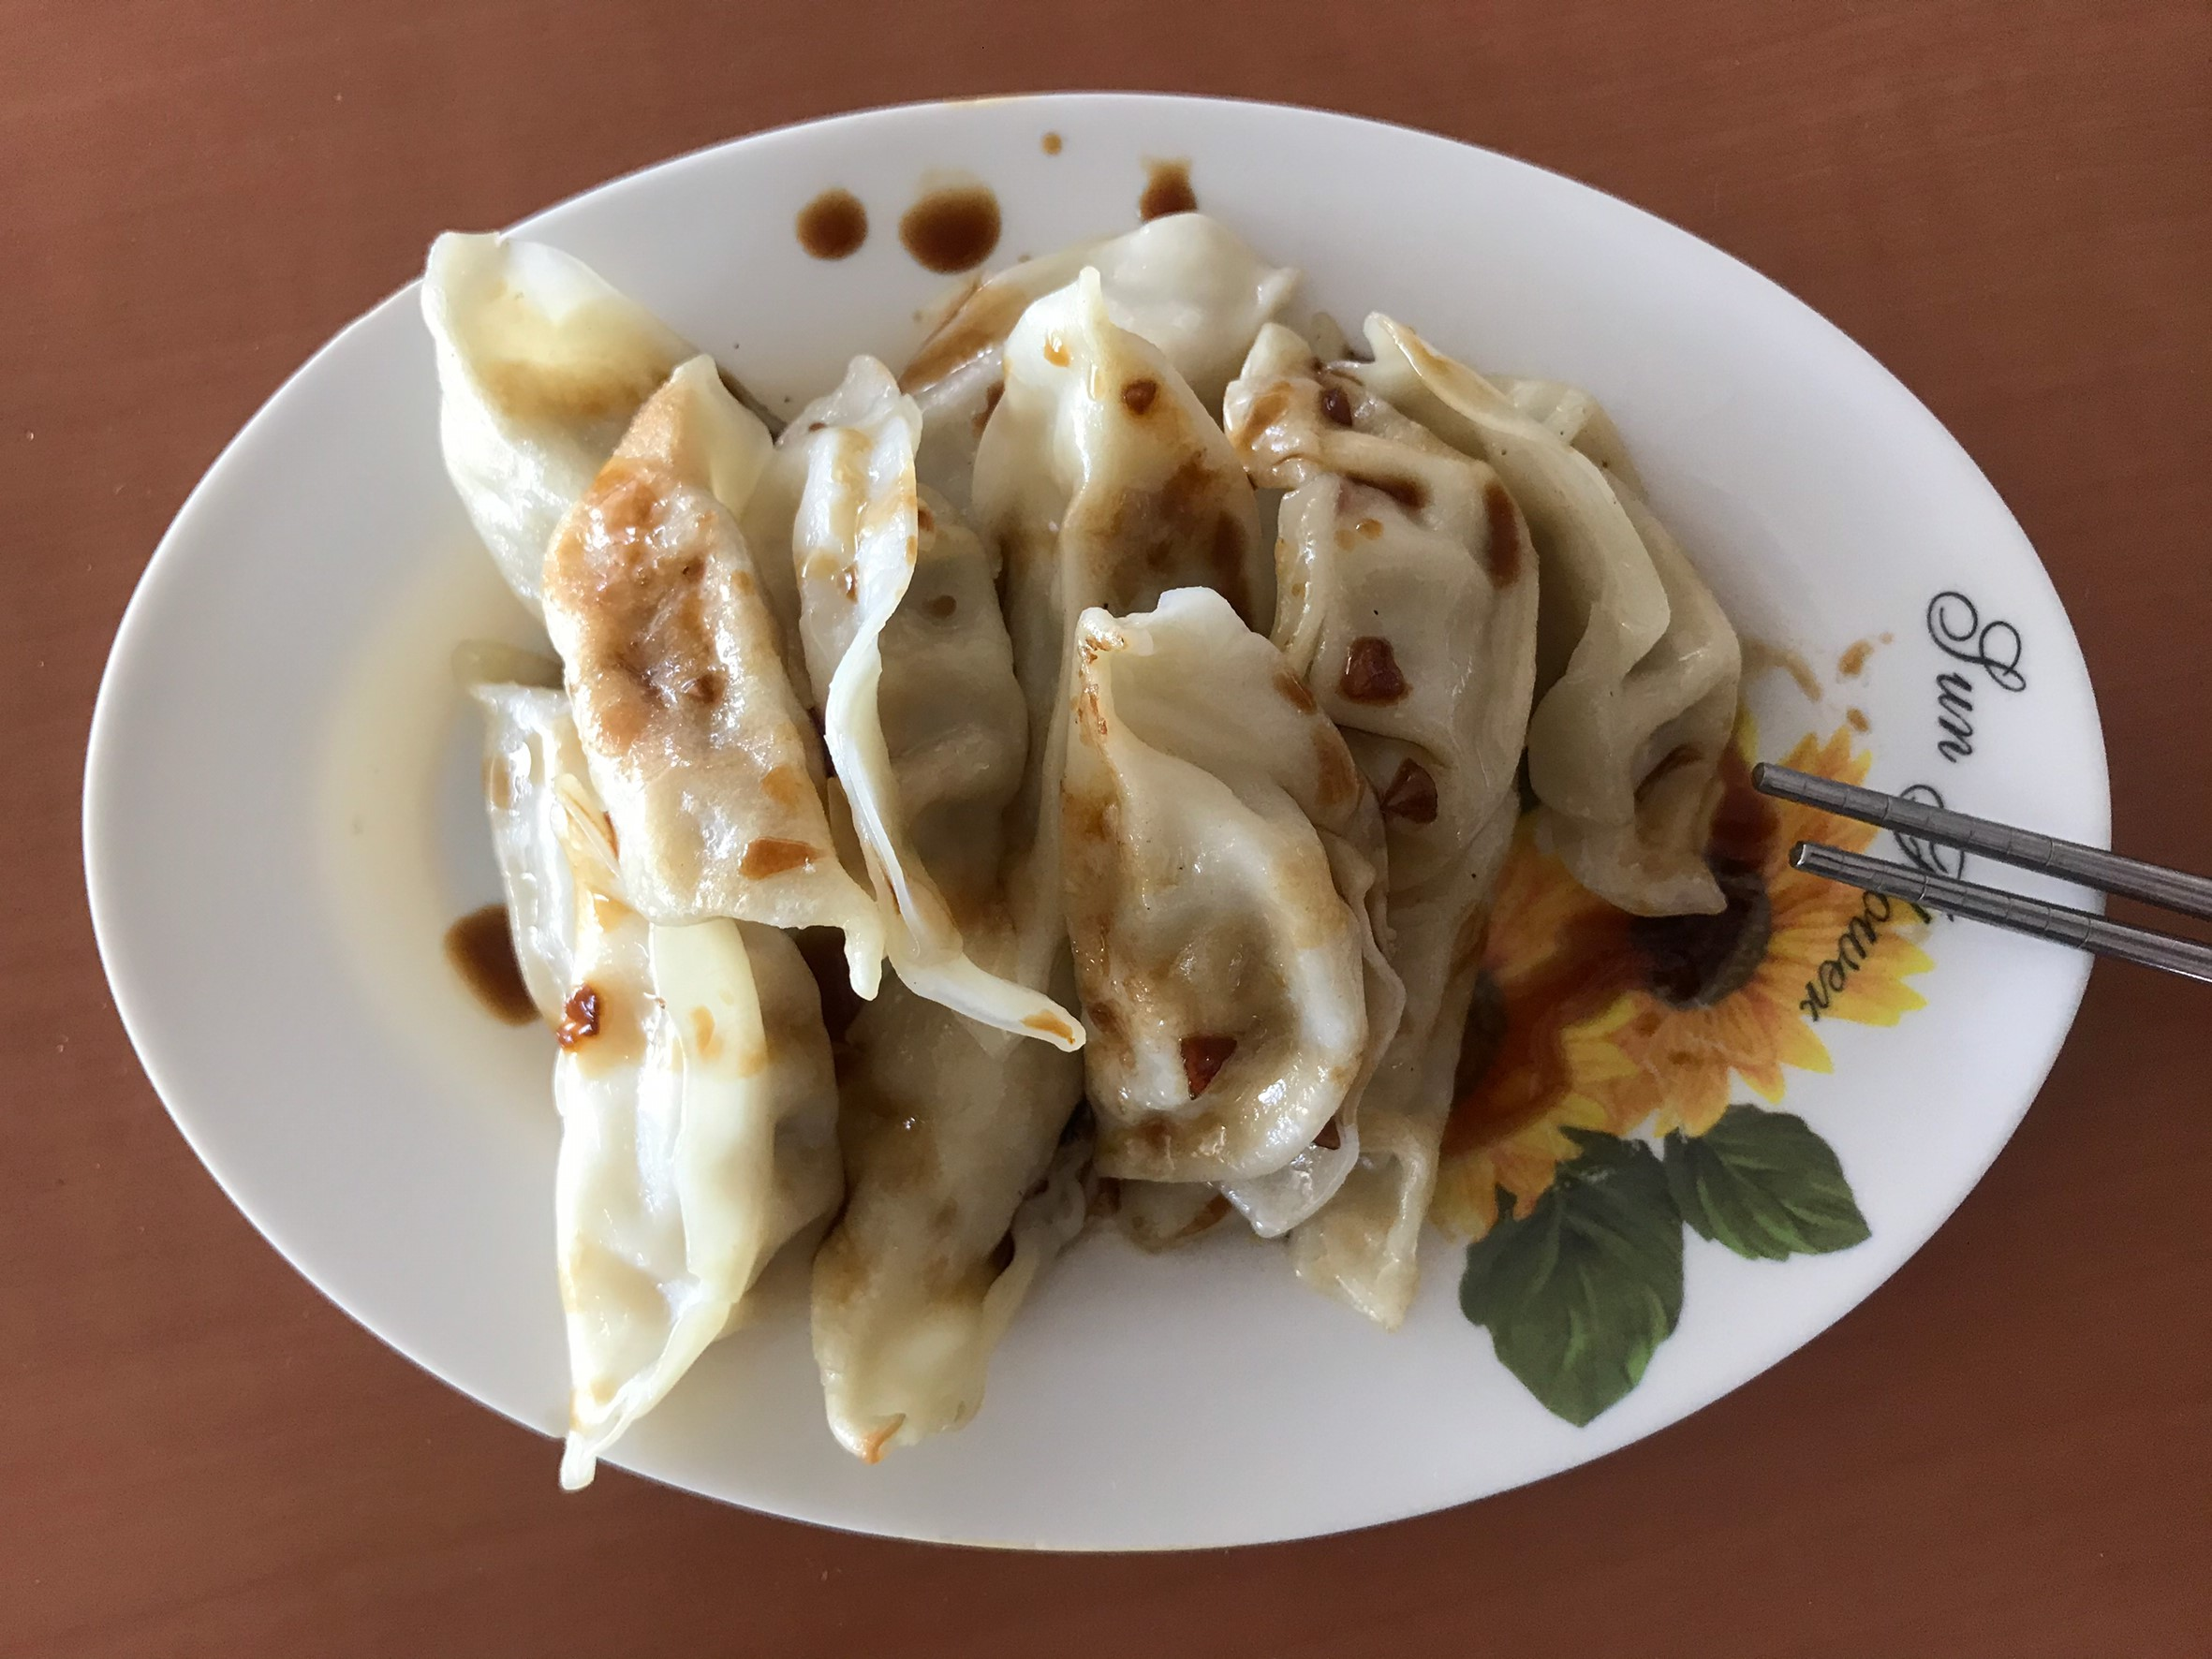fried_dumplings: (401, 213, 1750, 1490), (1048, 594, 1407, 1260)
